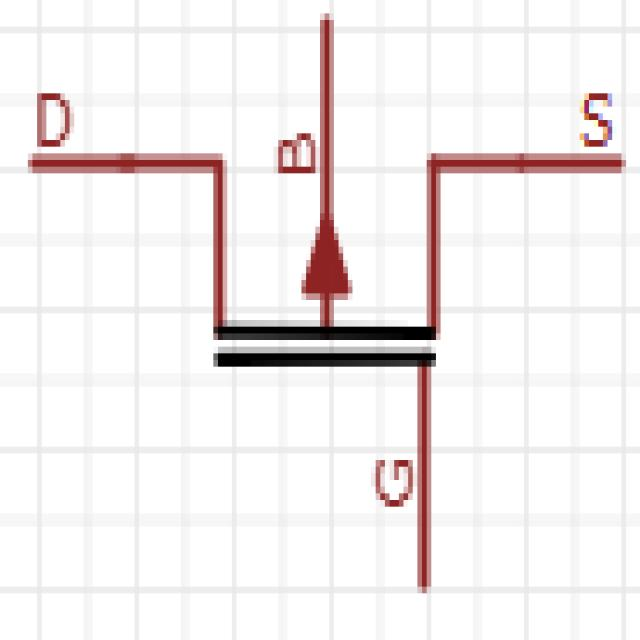pmos: (22, 3, 623, 575)
